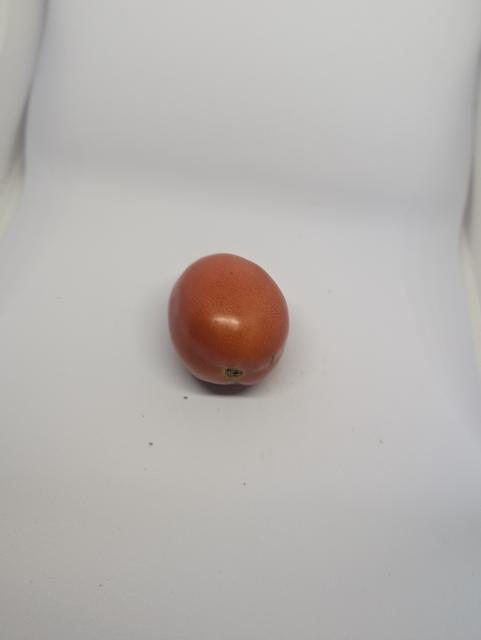red: (167, 250, 299, 394)
